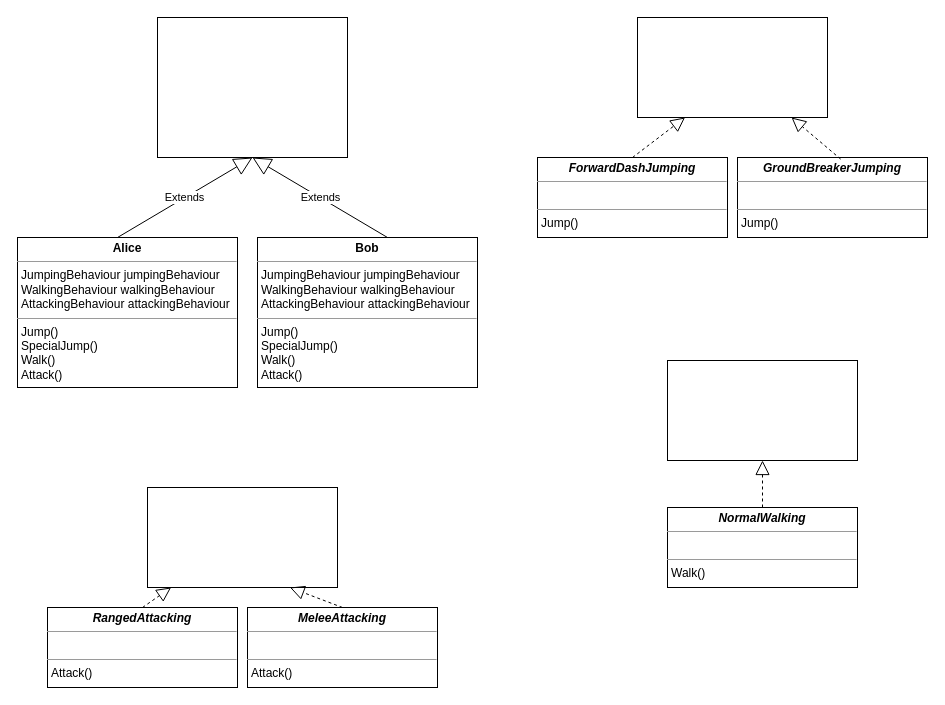
The diagram is 945 pixels wide and 705 high, and some of its shapes have lost their labels. The shapes that lost their labels are listed below. From the top down, each one's centre as x and y in pixels, then its label:
At point 252,87: "<<Abstract>> CharacterAbstract Jump() SpecialJump() Walk() Attack()".
At point 732,67: "<<Interface>> JumpingBehaviour Jump()".
At point 762,410: "<<Interface>> WalkingBehaviour Walk()".
At point 242,537: "<<Interface>> AttackingBehaviour Attack()".
